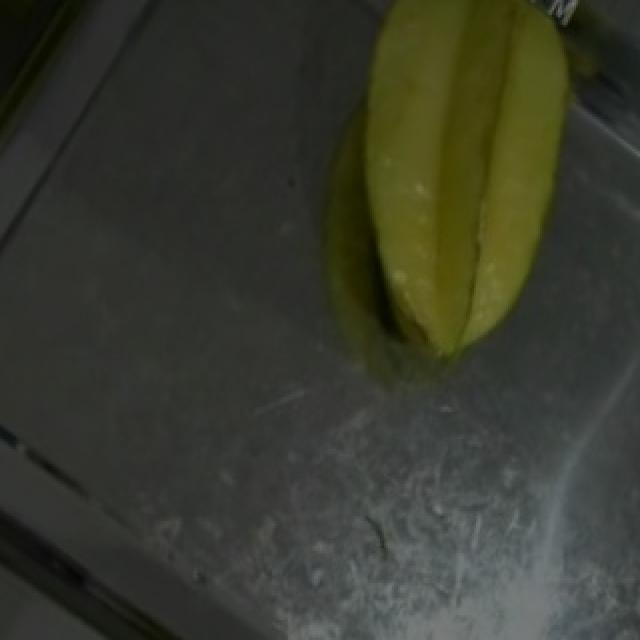fruit: (328, 0, 636, 337)
